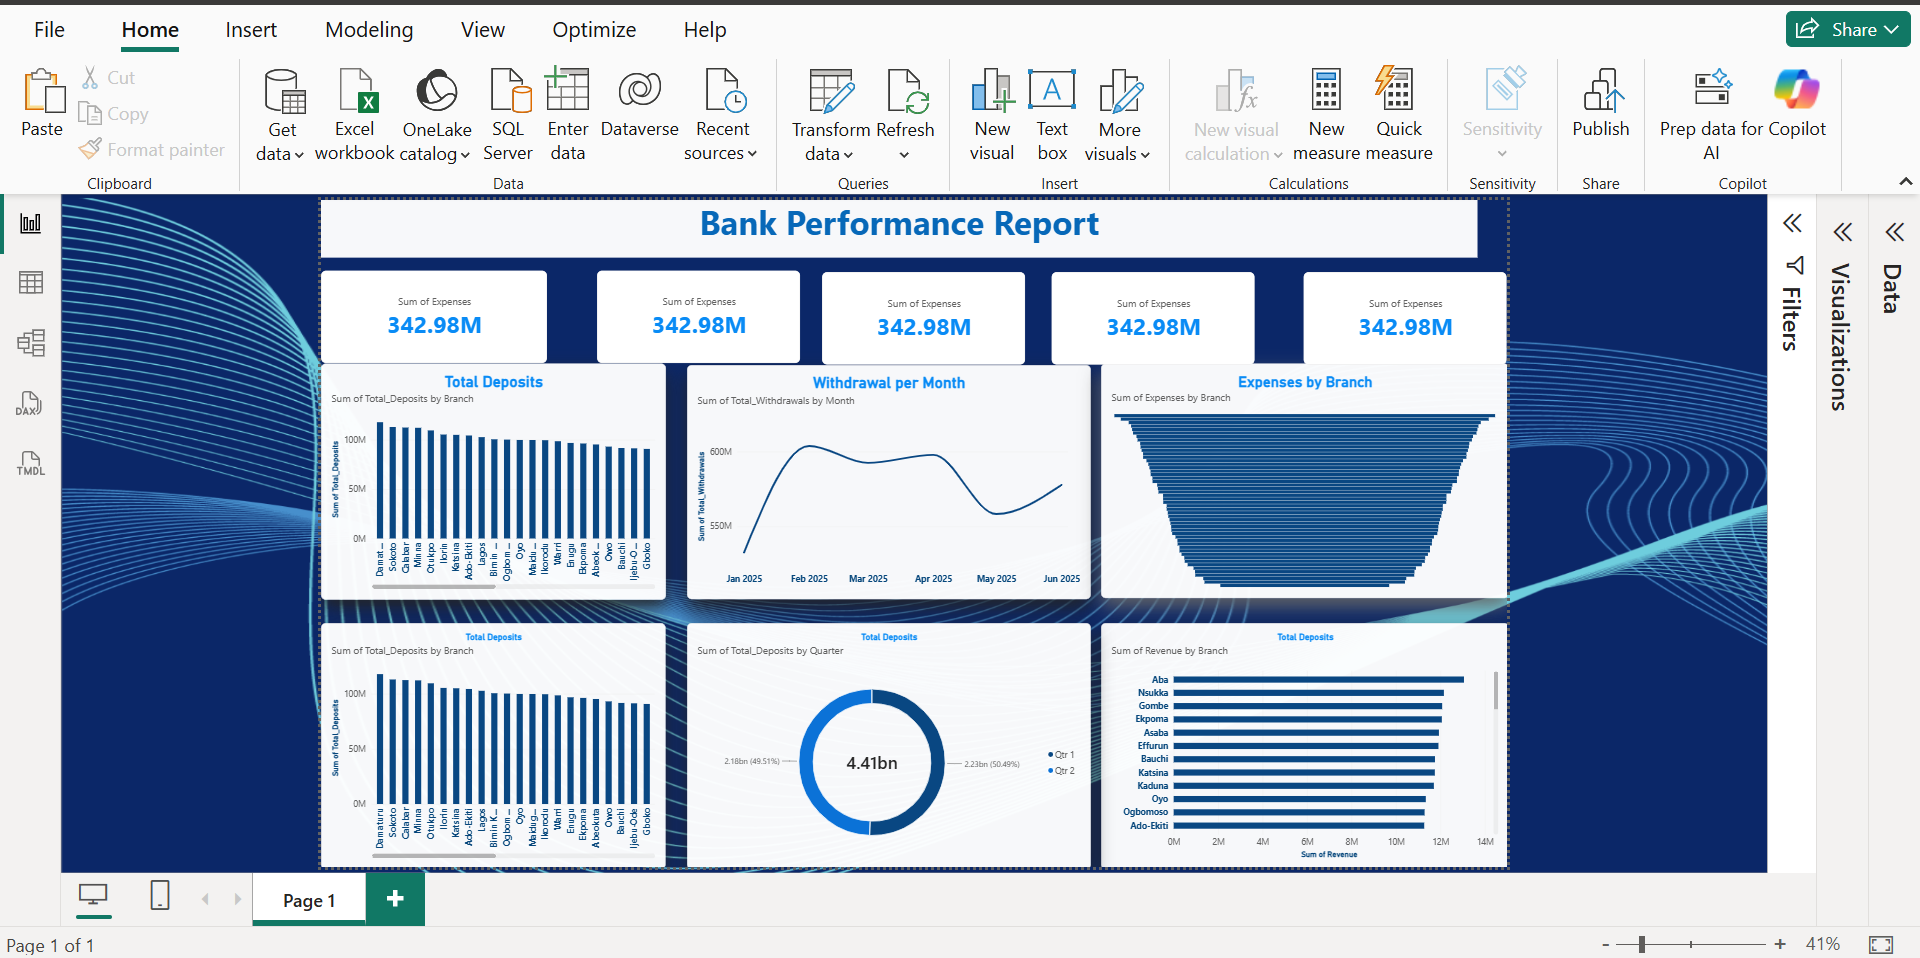

What the dashboard file says about the page in this screenshot:
{"tool":"powerbi","page":{"name":"Page 1","canvas":[1920,1080],"ordinal":0},"visuals":[{"type":"columnChart","title":"Total Deposits","fields":{"Category":["June.Branch"],"Y":["Sum(June.Total_Deposits)"]},"box":[0,264.8,558.4,382.7],"z":0},{"type":"lineChart","title":"Withdrawal per Month","fields":{"Category":["June.Month"],"Y":["Sum(June.Total_Withdrawals)"]},"box":[590.2,264.7,653.7,379.4],"z":1},{"type":"funnel","title":"Expenses by Branch","fields":{"Category":["June.Branch"],"Y":["Sum(June.Expenses)"]},"box":[1262.1,264.8,660.5,379.8],"z":2},{"type":"clusteredBarChart","title":"Total Deposits","fields":{"Category":["June.Branch"],"Y":["Sum(June.Revenue)"]},"box":[1262.1,684.8,660.9,398.4],"z":3},{"type":"columnChart","title":"Total Deposits","fields":{"Category":["June.Branch"],"Y":["Sum(June.Total_Deposits)"]},"box":[0,684.8,558.3,398.4],"z":4},{"type":"donutChart","title":"Total Deposits","fields":{"Category":["June.Month.Variation.Date Hierarchy.Quarter"],"Y":["Sum(June.Total_Deposits)"]},"box":[591.7,684.8,653.7,398.4],"z":5},{"type":"cardVisual","fields":{"Data":["Sum(June.Expenses)"]},"box":[0,114.2,366.8,150.6],"z":6},{"type":"cardVisual","fields":{"Data":["Sum(June.Expenses)"]},"box":[446.2,114.5,329.3,150.3],"z":7},{"type":"cardVisual","fields":{"Data":["Sum(June.Expenses)"]},"box":[811.2,116.9,329.3,150.3],"z":8},{"type":"cardVisual","fields":{"Data":["Sum(June.Expenses)"]},"box":[1183.4,116.9,329.3,150.3],"z":9},{"type":"cardVisual","fields":{"Data":["Sum(June.Expenses)"]},"box":[1591.4,116.9,329.3,150.3],"z":10},{"type":"textbox","box":[0,0,1921.2,92.3],"z":11}]}

Visuals, with their boxes on the page's 1920x1080 design canvas (x1, y1, x2, y2). These are canvas units, not pixel positions in the 1920x958 screenshot, which may show the page scaled, cropped or inside an application window:
"Total Deposits" columnChart: box(0, 265, 558, 648)
"Withdrawal per Month" lineChart: box(590, 265, 1244, 644)
"Expenses by Branch" funnel: box(1262, 265, 1923, 645)
"Total Deposits" clusteredBarChart: box(1262, 685, 1923, 1083)
"Total Deposits" columnChart: box(0, 685, 558, 1083)
"Total Deposits" donutChart: box(592, 685, 1245, 1083)
cardVisual - Sum(June.Expenses): box(0, 114, 367, 265)
cardVisual - Sum(June.Expenses): box(446, 114, 776, 265)
cardVisual - Sum(June.Expenses): box(811, 117, 1140, 267)
cardVisual - Sum(June.Expenses): box(1183, 117, 1513, 267)
cardVisual - Sum(June.Expenses): box(1591, 117, 1921, 267)
textbox: box(0, 0, 1921, 92)
